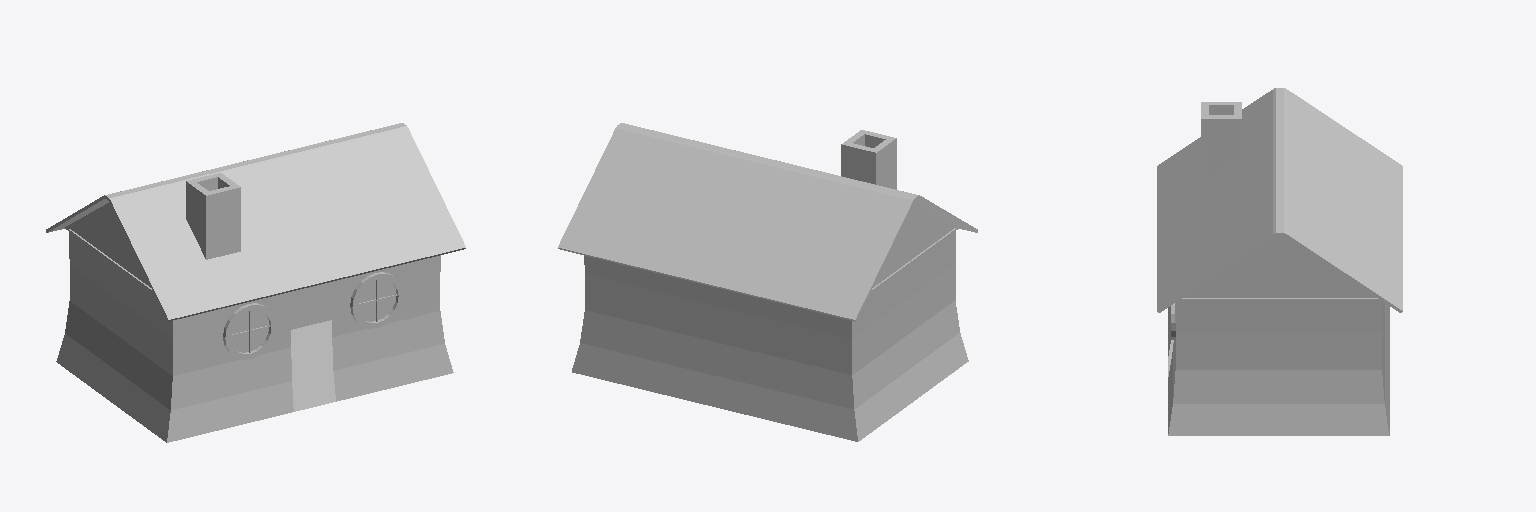
File: CasaDePrueba.obj
3 renders of one model, left to right at view 1: azimuth 30°, elevation 25°; view 2: azimuth 150°, elevation 25°; view 3: azimuth 270°, elevation 25°, orthographic.
Parts seen in each view (by area): view 1: pCube14; view 2: pCube14; view 3: pCube14.
Boxes of the visible parts, box(x1,y1,x2,y2) form: pCube14: box(46, 123, 465, 442); pCube14: box(558, 123, 977, 441); pCube14: box(1157, 88, 1402, 435).
Size of the model in its own units: 15.72 by 11.18 by 11.27.